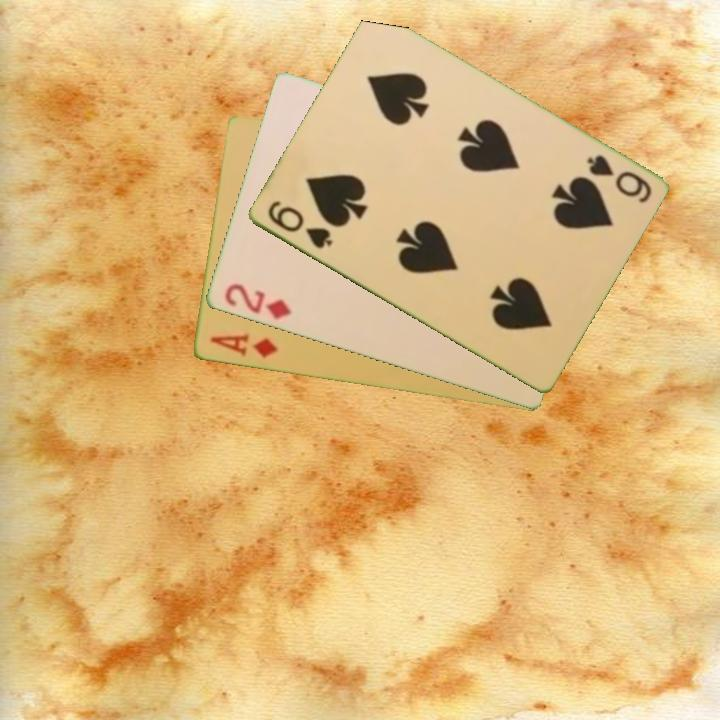2d: (220, 280, 294, 322)
6s: (582, 151, 654, 207), (263, 197, 335, 252)
Ad: (206, 330, 280, 362)
